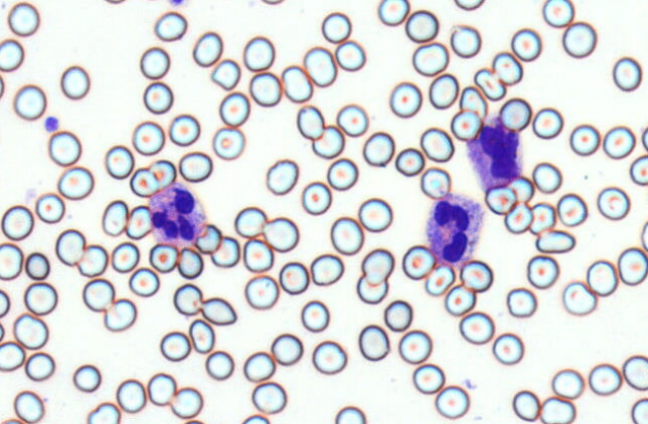GRAN: (427, 190, 482, 263), (150, 184, 207, 245)
MONO: (466, 114, 522, 188)
PLT: (45, 116, 59, 132), (167, 0, 184, 8)
RBC: (303, 46, 337, 87), (262, 216, 299, 252), (13, 312, 48, 349), (562, 21, 597, 58), (412, 41, 449, 76), (330, 216, 363, 255), (562, 280, 597, 316), (57, 166, 94, 200), (244, 274, 279, 309), (434, 384, 469, 419), (0, 204, 34, 240), (47, 130, 81, 166), (265, 158, 298, 195), (389, 81, 422, 118), (281, 65, 313, 103), (312, 340, 347, 374), (398, 329, 432, 364), (358, 197, 392, 232), (420, 127, 454, 162), (361, 248, 394, 284), (401, 244, 434, 280), (458, 311, 494, 344), (13, 84, 46, 120), (358, 324, 390, 361), (586, 259, 618, 296), (23, 281, 57, 315), (596, 186, 630, 220), (311, 124, 344, 159), (251, 381, 286, 414), (526, 254, 559, 289), (362, 131, 395, 166), (243, 35, 275, 71), (218, 91, 250, 127), (55, 228, 85, 266), (617, 247, 647, 285), (405, 9, 438, 43), (459, 259, 493, 292), (602, 125, 635, 159), (132, 120, 164, 155), (249, 71, 281, 106), (428, 73, 459, 109), (103, 298, 136, 331), (82, 278, 114, 312), (310, 253, 344, 285), (588, 363, 622, 395), (7, 2, 39, 36), (336, 103, 368, 137), (212, 126, 244, 160), (449, 24, 481, 58), (499, 97, 531, 131), (612, 56, 642, 92), (192, 31, 222, 67), (168, 113, 200, 146), (76, 244, 108, 277), (234, 206, 267, 238), (326, 157, 358, 190), (270, 333, 303, 365), (492, 332, 524, 365), (170, 386, 203, 418), (242, 238, 273, 272), (178, 151, 212, 182), (510, 27, 541, 61), (116, 378, 146, 413), (200, 296, 236, 325), (296, 104, 325, 140), (278, 261, 309, 294), (412, 363, 445, 394), (551, 368, 584, 399), (13, 390, 44, 423), (142, 81, 173, 114), (569, 123, 600, 156), (556, 193, 587, 226), (139, 46, 170, 79), (301, 181, 331, 215), (60, 65, 90, 99), (104, 145, 134, 179), (492, 51, 522, 85), (101, 199, 128, 236), (424, 264, 455, 296), (243, 351, 275, 382), (450, 109, 481, 141), (444, 284, 475, 316), (532, 107, 563, 139), (210, 235, 240, 268), (154, 11, 187, 41), (147, 372, 176, 406), (539, 396, 575, 423), (159, 330, 190, 361), (334, 40, 365, 71), (356, 274, 388, 304), (173, 283, 203, 315), (321, 11, 351, 43), (532, 161, 562, 193), (420, 167, 450, 199), (300, 299, 329, 332), (383, 299, 412, 332), (128, 267, 159, 297), (506, 287, 537, 317), (35, 192, 65, 223), (511, 389, 540, 421), (125, 205, 152, 239), (485, 185, 515, 215), (622, 354, 647, 390), (111, 241, 139, 273), (0, 242, 23, 280), (129, 167, 158, 197), (205, 350, 234, 380), (25, 351, 54, 381), (149, 242, 178, 272), (504, 202, 532, 233), (542, 0, 574, 27), (177, 246, 203, 279), (395, 147, 424, 176), (377, 0, 409, 26), (148, 159, 176, 188), (72, 364, 101, 392), (0, 38, 24, 71), (24, 251, 50, 280), (0, 341, 25, 371), (87, 402, 120, 423), (334, 405, 366, 423), (629, 154, 647, 185), (631, 397, 647, 423), (453, 0, 484, 10), (0, 289, 10, 317), (241, 414, 270, 423), (641, 220, 648, 252), (641, 125, 647, 151), (0, 74, 5, 99), (260, 0, 285, 5), (0, 418, 24, 423), (101, 0, 127, 4), (0, 321, 5, 341), (183, 419, 205, 423)
Schistocyte: (459, 84, 488, 121), (474, 68, 506, 101), (535, 230, 578, 254), (210, 59, 241, 91), (189, 319, 216, 354), (529, 203, 558, 234), (509, 176, 534, 204)
